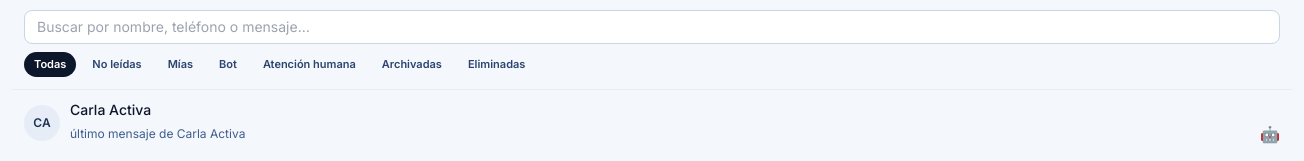
ConversationList — filtros › cada filtro vacío tiene un mensaje útil (no un hueco)
Click the button "Eliminadas" at (497, 64), box [458, 52, 535, 76]
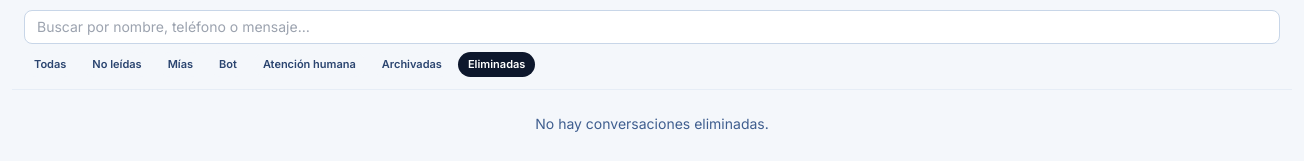
Result: the text "No hay conversaciones eliminadas." is shown at [535, 114, 769, 132]
